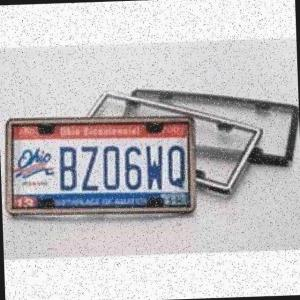Plate: (14, 128, 189, 194)
